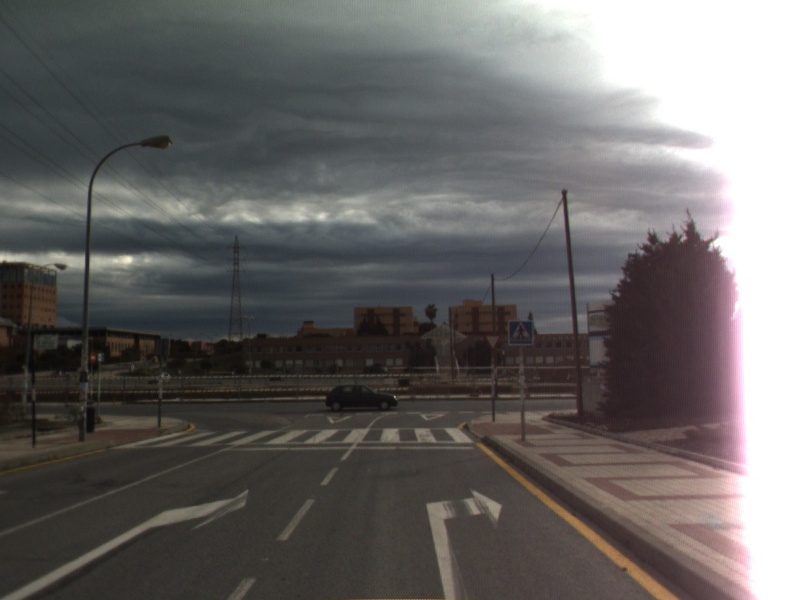RIGHT: (1, 487, 251, 600), (423, 485, 505, 600)
